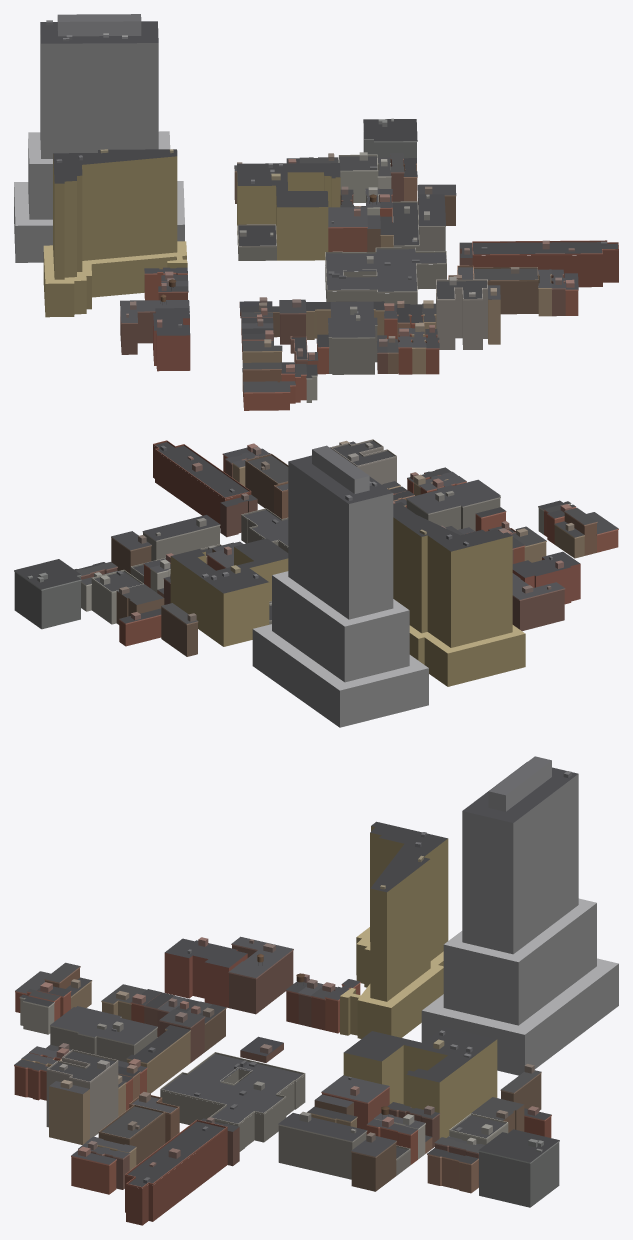
Rendered from -2_3.bld.glb.
3 views of the same model, one above another, from view 1: azimuth 30°, elevation 25°; view 2: azimuth 150°, elevation 25°; view 3: azimuth 270°, elevation 25° (orthographic). The views are drawn at different scales.
Parts seen in each view (by area): view 1: -2_3; view 2: -2_3; view 3: -2_3.
Boxes of the visible parts, <box> form: -2_3: <box>14,14,618,410</box>; -2_3: <box>14,439,618,727</box>; -2_3: <box>14,756,618,1225</box>.
Size of the model in its own units: 320 by 144 by 311.
